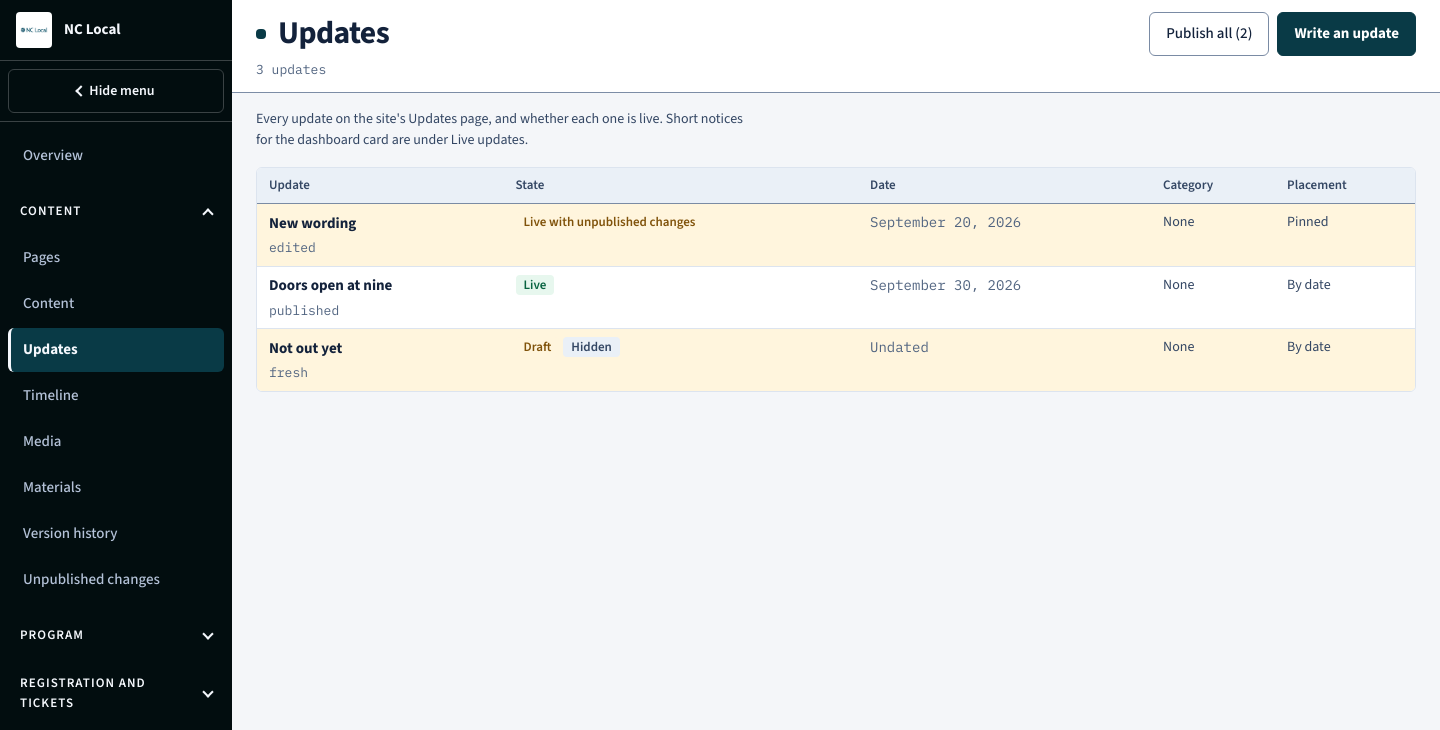
Test: the updates list › publishes every dirty draft, and only those, through cmsPublish
The image size is (1440, 730).
Step 1. Click the button "Publish all (2)" → (1209, 34), box [1149,12,1269,56]
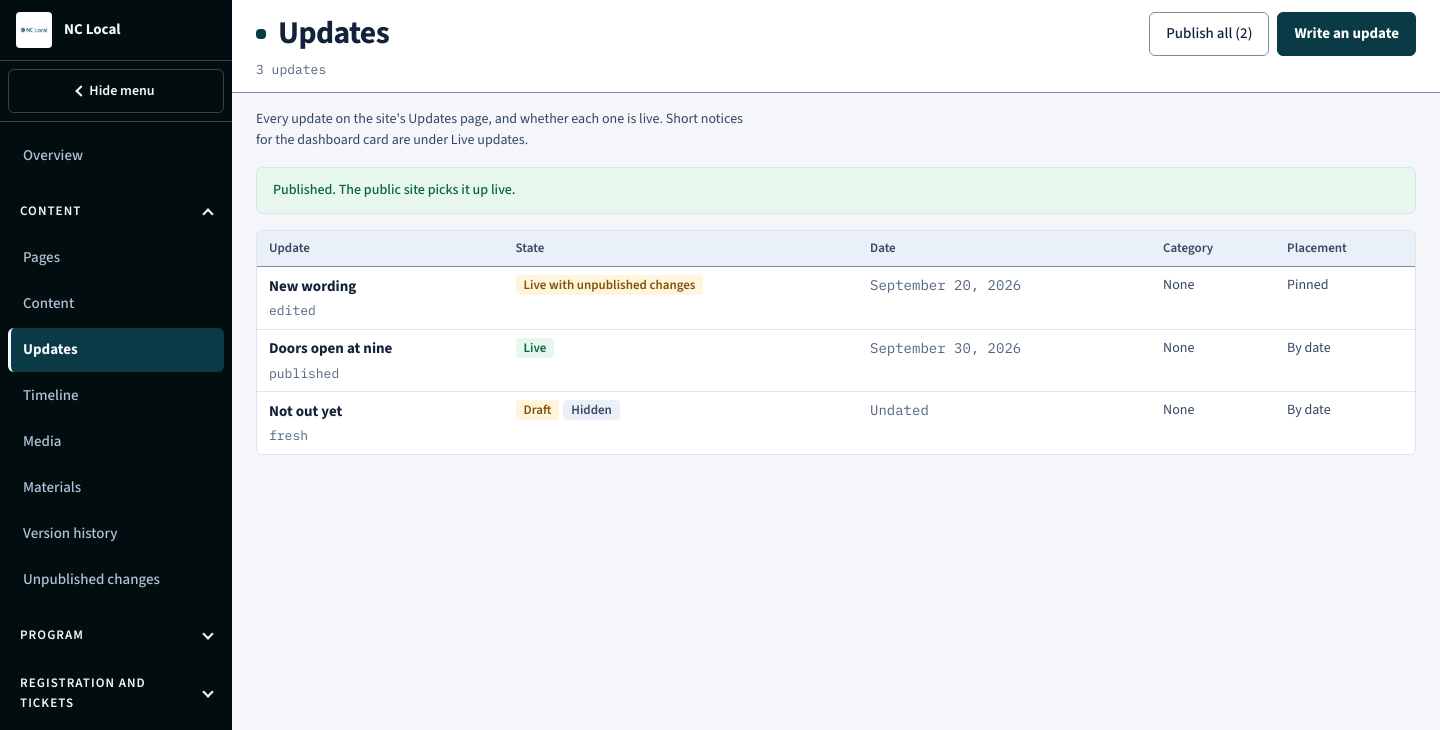
Expected: the text "Published. The public site picks it up live." is shown, [256,166,1416,214]
